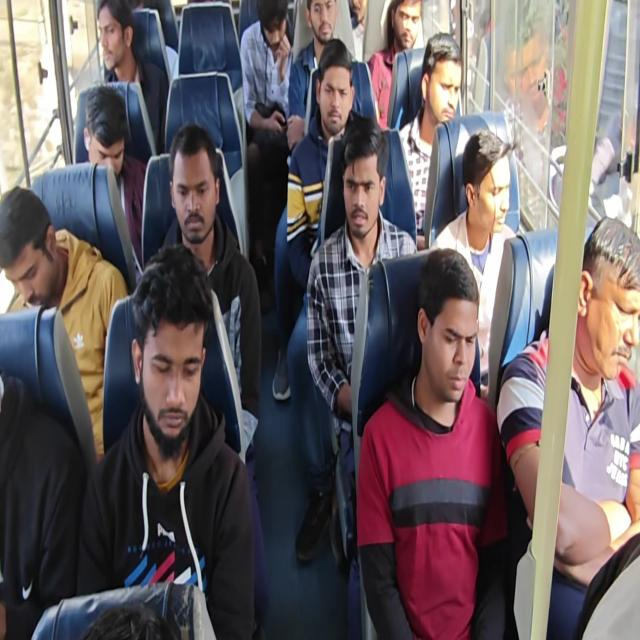person: (125, 243, 213, 449), (577, 191, 640, 419), (416, 234, 478, 421), (326, 121, 396, 256), (2, 184, 68, 308), (159, 115, 224, 236), (457, 124, 518, 242), (307, 40, 361, 131), (77, 89, 132, 174), (421, 30, 462, 137), (91, 0, 142, 79), (255, 0, 293, 63), (390, 1, 425, 62), (309, 5, 346, 42), (346, 0, 372, 25)
